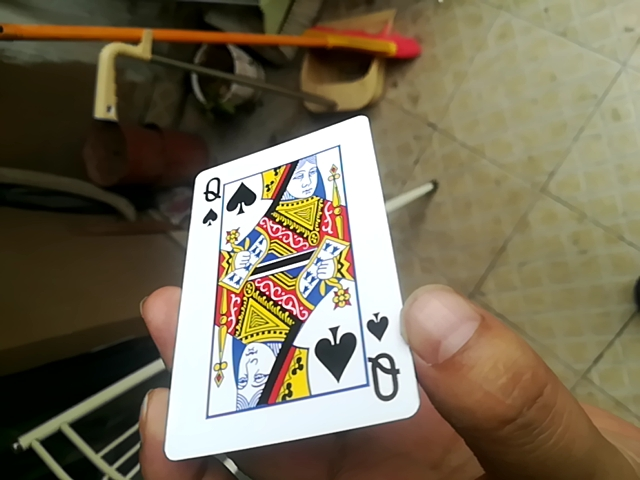ht q: (165, 114, 407, 462)
